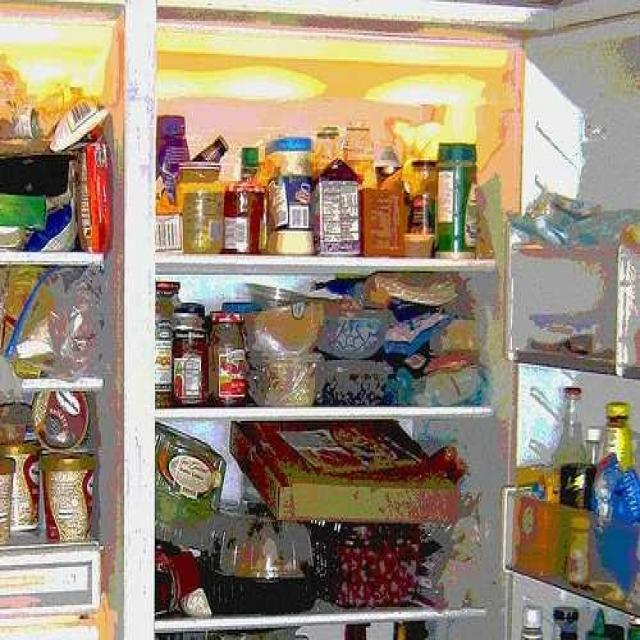refrigerator: (157, 3, 518, 640)
